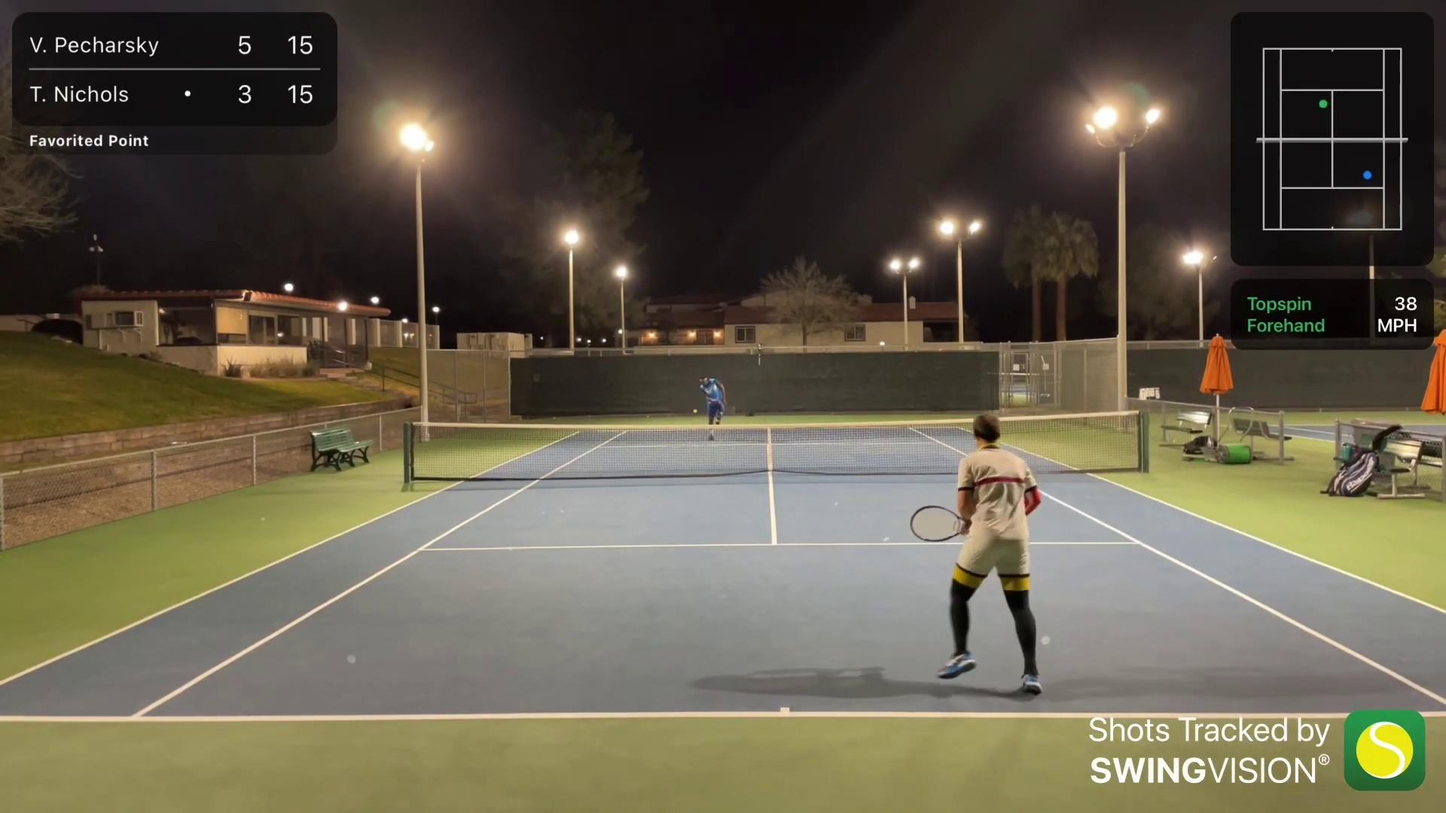ball: (689, 404, 703, 419)
